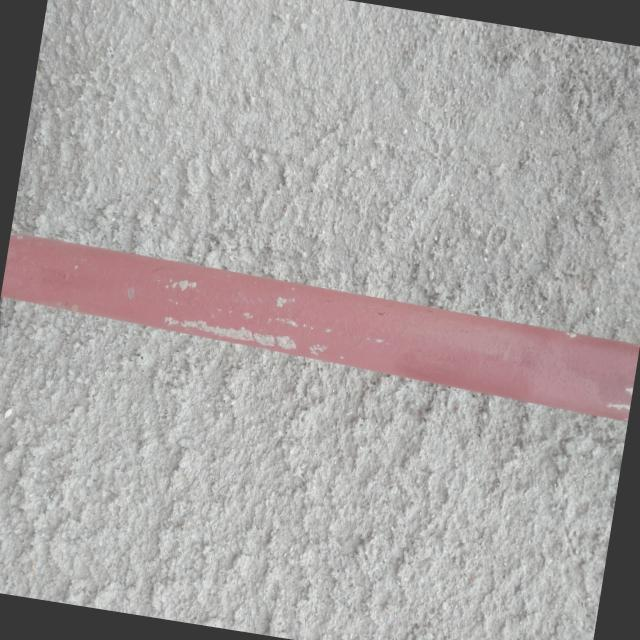gas: (0, 232, 640, 425)
